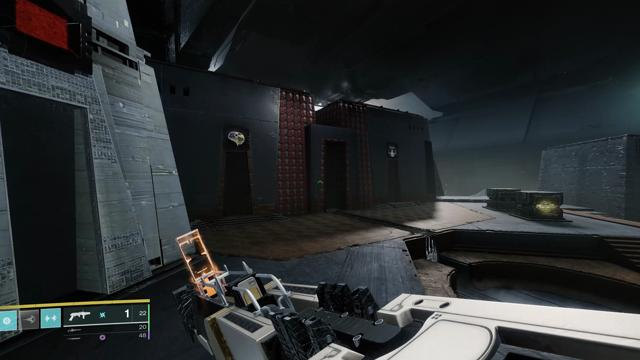brain: (227, 128, 247, 148)
drink: (388, 144, 397, 157)
stop: (9, 0, 80, 60)
